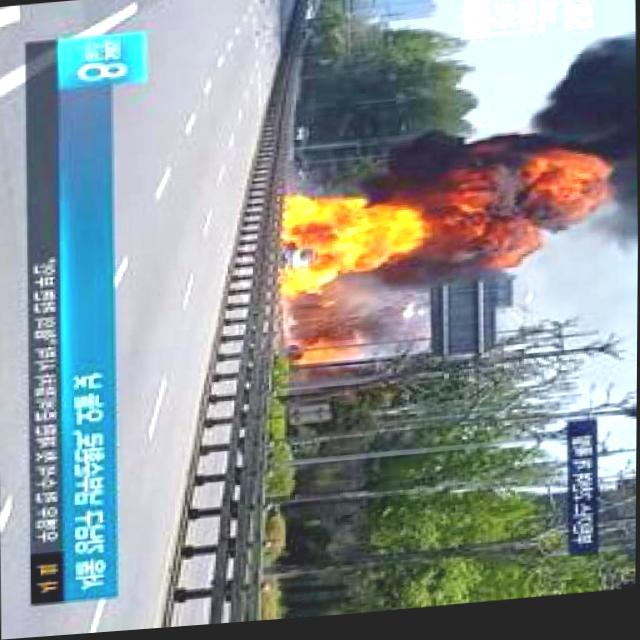helmet: (284, 155, 611, 294), (303, 335, 367, 367)
no_helmet: (533, 35, 638, 171)
